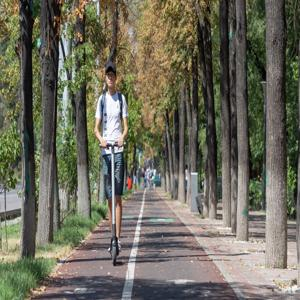human on a scooter: (93, 62, 130, 267)
